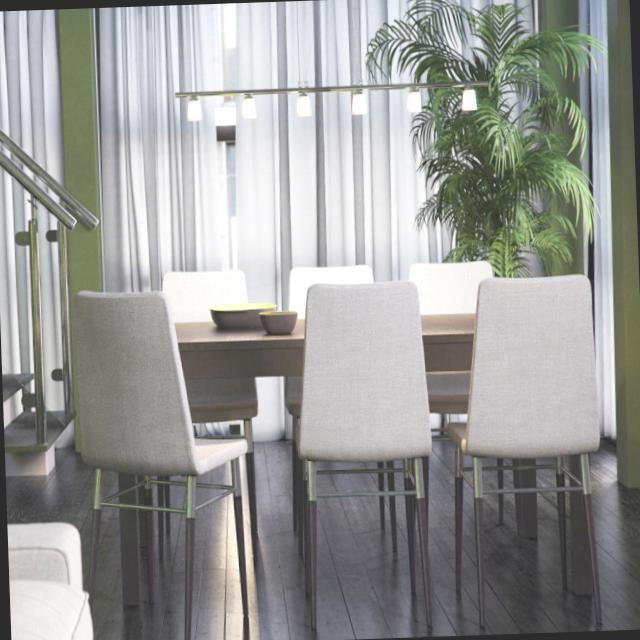obstacle: (78, 253, 604, 639), (6, 493, 95, 640)
